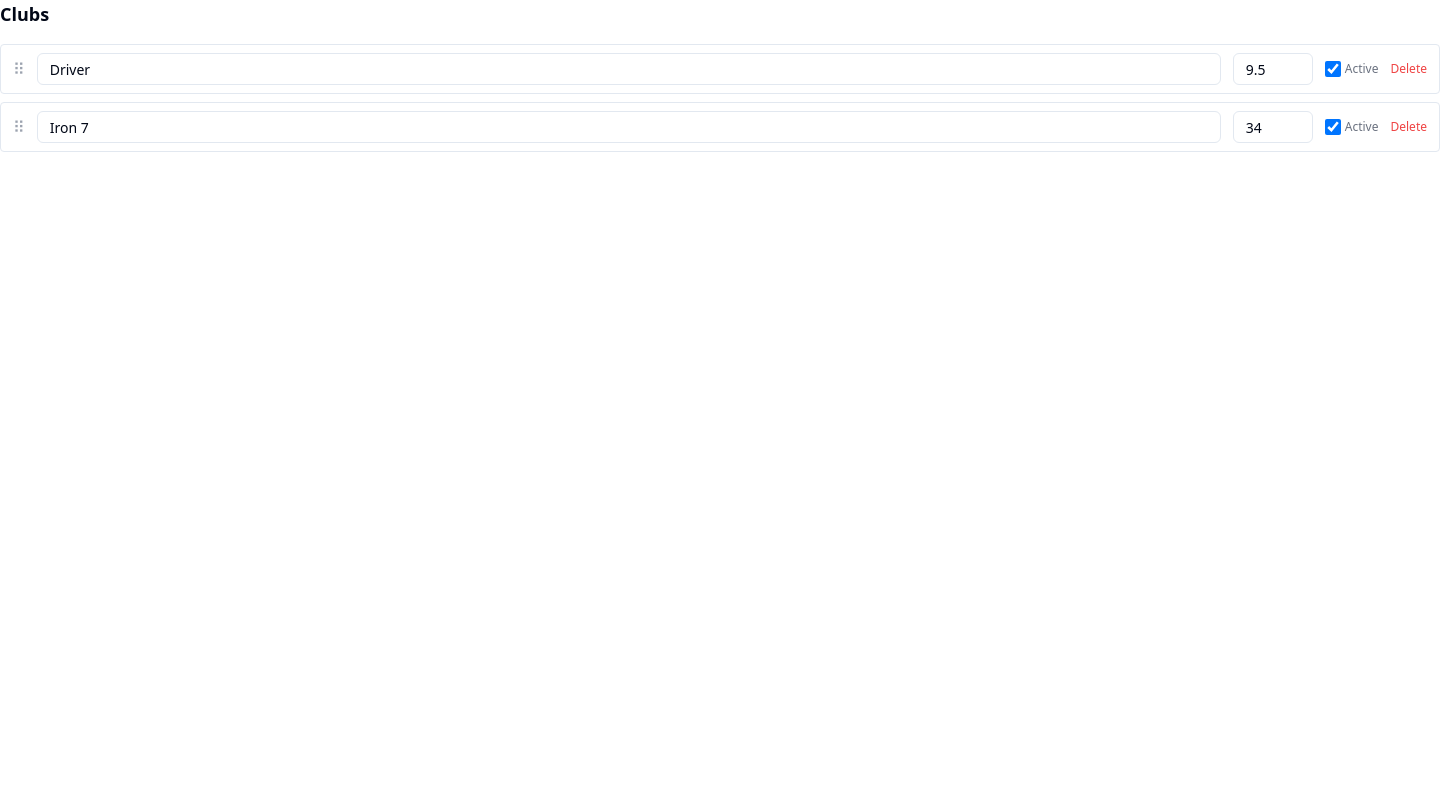
Test: ClubListClient › shows delete confirmation dialog
Click the 1st button "Delete".
click(1409, 69)  # box [1390,61,1427,77]
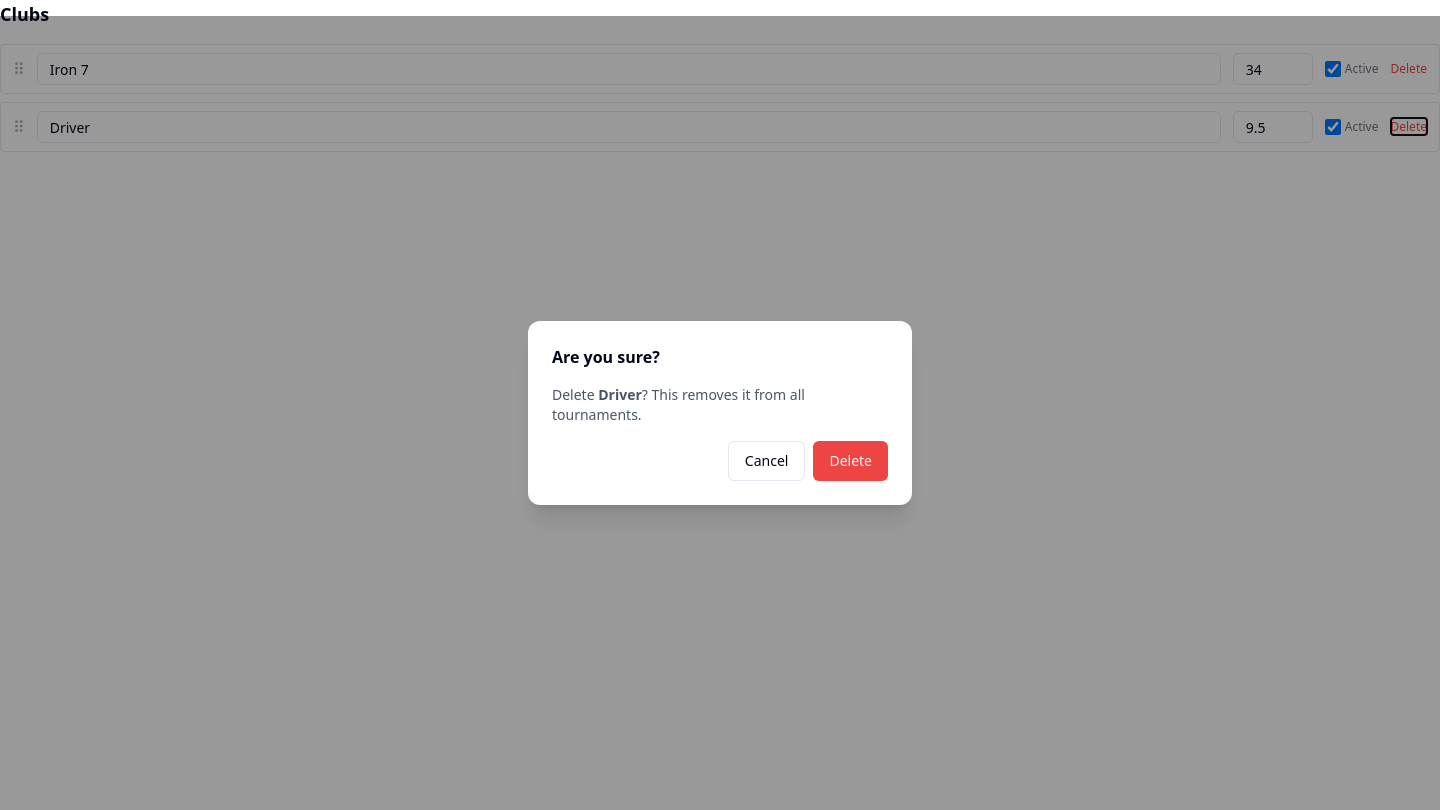
expect the heading "Are you sure?" is shown: met, box [552,346,660,368]
